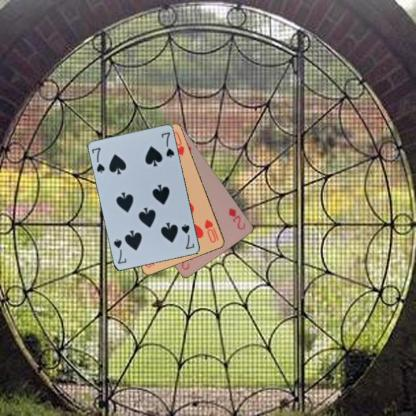10h: (202, 216, 220, 244)
2d: (226, 205, 247, 231)
7s: (179, 221, 196, 251), (90, 145, 106, 175)
